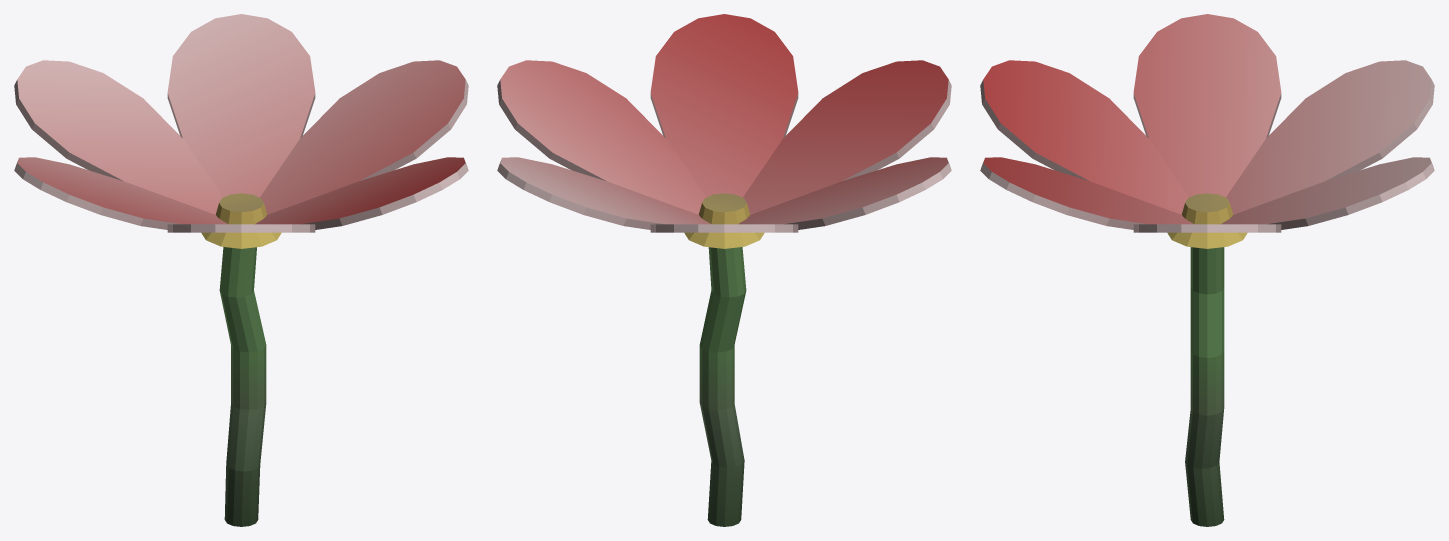
Rendered from Flower.fbx.
3 views of the same model, side by side, from view 1: azimuth 30°, elevation 25°; view 2: azimuth 150°, elevation 25°; view 3: azimuth 270°, elevation 25° (orthographic).
Visible parts, largest first — view 1: Flower1; view 2: Flower1; view 3: Flower1.
Boxes of the visible parts, x1=… form: Flower1: x1=14, y1=14, x2=468, y2=526; Flower1: x1=497, y1=14, x2=951, y2=526; Flower1: x1=980, y1=14, x2=1434, y2=526.
Size of the model in its own units: 33.84 by 29.64 by 30.47.
